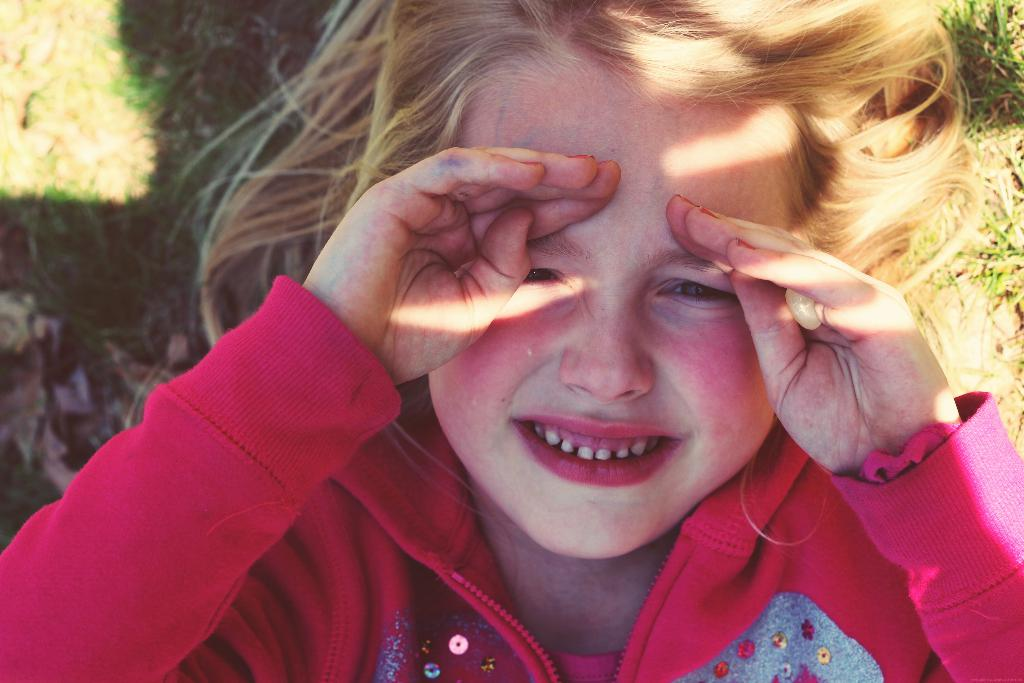Human_hand: (296, 140, 623, 389), (746, 201, 980, 512)
